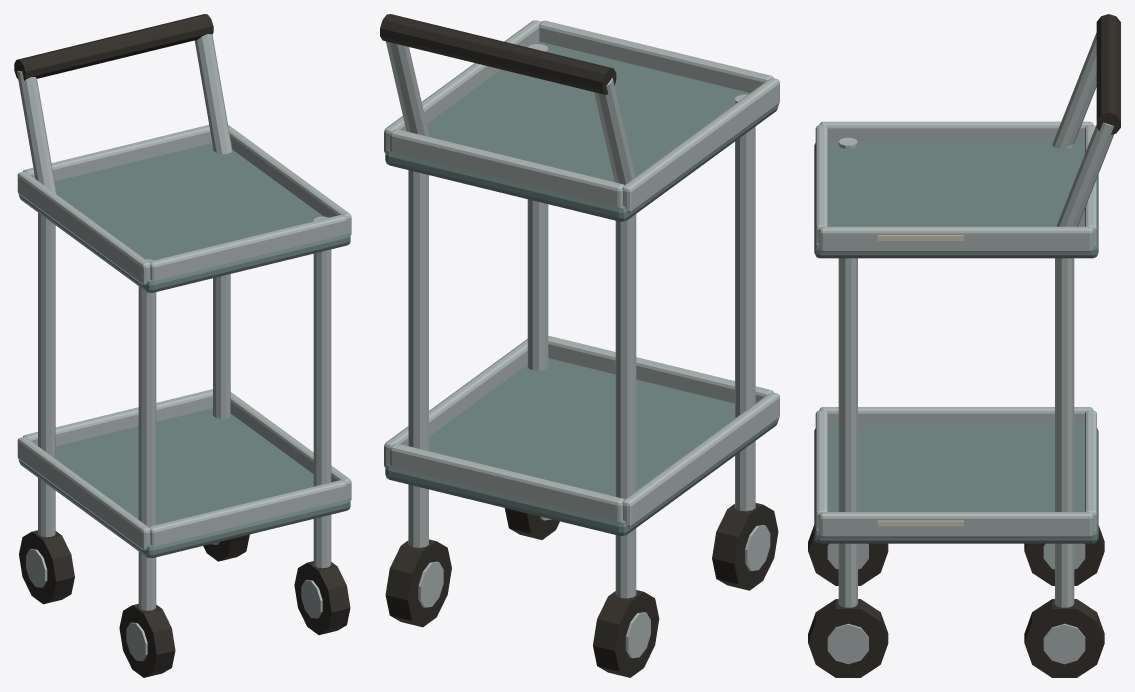
The model's file is orderly_trolley.glb.
3 renders of one model, left to right at view 1: azimuth 30°, elevation 25°; view 2: azimuth 150°, elevation 25°; view 3: azimuth 270°, elevation 25°, orthographic. The views are drawn at different scales.
Visible parts, largest first — view 1: Trolley frame, Caster tire, Caster tire.002, Caster tire.001, Caster tire.003; view 2: Trolley frame, Caster tire.003, Caster tire, Caster tire.001, Caster tire.002; view 3: Trolley frame, Caster tire.002, Caster tire.003, Caster tire.001, Caster tire.
Boxes of the visible parts, left/top/right/bottom form: Trolley frame: left=14, top=14, right=351, bottom=661; Caster tire: left=119, top=604, right=175, bottom=677; Caster tire.002: left=294, top=561, right=350, bottom=634; Caster tire.001: left=19, top=530, right=74, bottom=604; Caster tire.003: left=203, top=534, right=249, bottom=561; Trolley frame: left=380, top=14, right=779, bottom=658; Caster tire.003: left=385, top=539, right=451, bottom=627; Caster tire: left=712, top=503, right=778, bottom=590; Caster tire.001: left=593, top=590, right=659, bottom=677; Caster tire.002: left=504, top=508, right=559, bottom=539; Trolley frame: left=814, top=14, right=1120, bottom=664; Caster tire.002: left=808, top=599, right=888, bottom=677; Caster tire.003: left=1024, top=599, right=1104, bottom=677; Caster tire.001: left=1024, top=525, right=1104, bottom=585; Caster tire: left=808, top=525, right=888, bottom=585.
Size of the model in its own units: 0.5145 by 1.23 by 0.6158.
